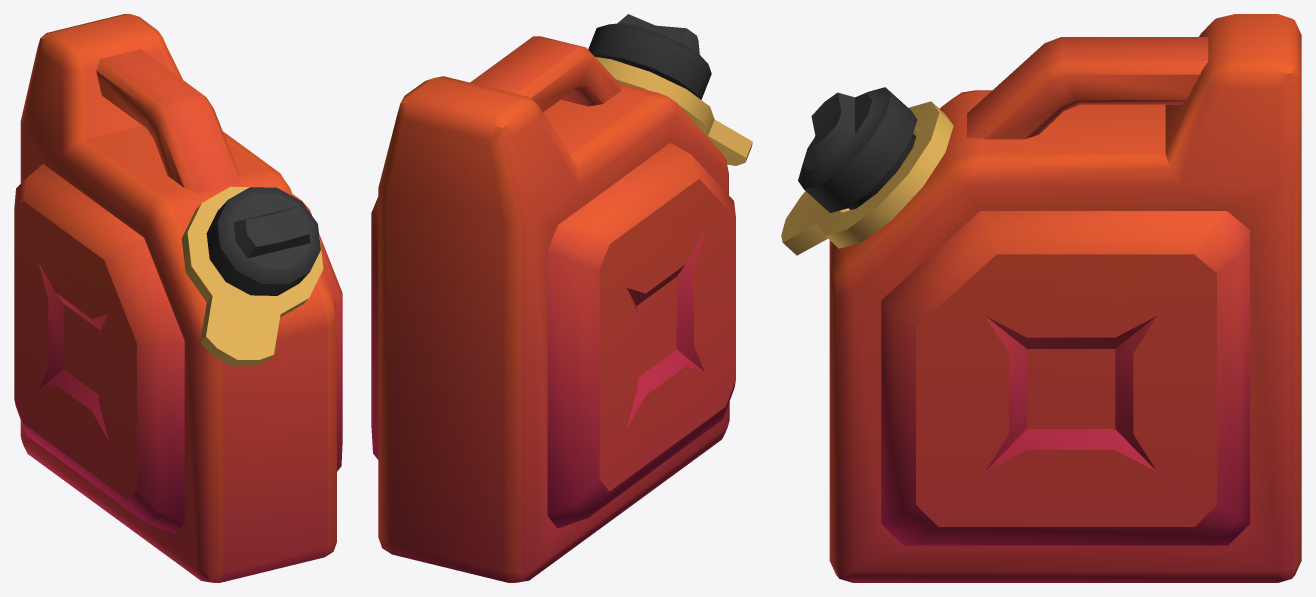
The model's file is fuel_a_jerrycan.glb.
3 renders of one model, left to right at view 1: azimuth 30°, elevation 25°; view 2: azimuth 150°, elevation 25°; view 3: azimuth 270°, elevation 25°, orthographic. The views are drawn at different scales.
Parts seen in each view (by area): view 1: Fuel_A_Jerrycan; view 2: Fuel_A_Jerrycan; view 3: Fuel_A_Jerrycan.
Part boxes in pixels (x1,y1,x2,y2): Fuel_A_Jerrycan: [14, 14, 342, 582]; Fuel_A_Jerrycan: [371, 14, 752, 582]; Fuel_A_Jerrycan: [781, 14, 1301, 582].
Bounding box in the file's own units: 0.4001 × 0.78 × 0.7165.
Materials: 1 (1 with a texture image).
